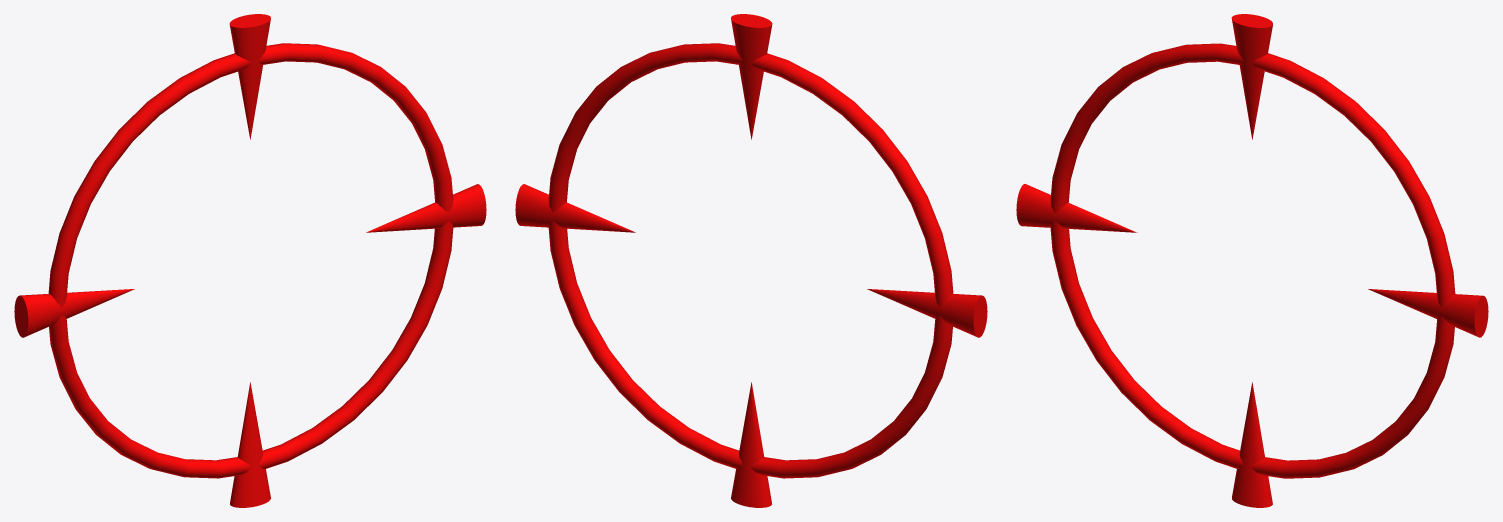
File: ch_peaRed.DAE
The picture shows the model from 3 angles, left to right: view 1: azimuth 30°, elevation 25°; view 2: azimuth 150°, elevation 25°; view 3: azimuth 330°, elevation 25°; orthographic projection.
Visible parts, largest first — view 1: Torus007, Kegel002, Kegel003, Kegel004, Kegel001; view 2: Torus007, Kegel002, Kegel003, Kegel004, Kegel001; view 3: Torus007, Kegel003, Kegel004, Kegel002, Kegel001.
Part boxes in pixels (x1=…): Torus007: x1=48, y1=43, x2=453, y2=478; Kegel002: x1=14, y1=289, x2=134, y2=337; Kegel003: x1=229, y1=14, x2=270, y2=139; Kegel004: x1=366, y1=184, x2=486, y2=232; Kegel001: x1=230, y1=382, x2=270, y2=507; Torus007: x1=548, y1=43, x2=953, y2=478; Kegel002: x1=867, y1=289, x2=987, y2=337; Kegel003: x1=731, y1=14, x2=772, y2=139; Kegel004: x1=515, y1=184, x2=635, y2=232; Kegel001: x1=731, y1=382, x2=771, y2=507; Torus007: x1=1050, y1=43, x2=1455, y2=478; Kegel003: x1=1231, y1=14, x2=1272, y2=139; Kegel004: x1=1368, y1=289, x2=1488, y2=337; Kegel002: x1=1016, y1=184, x2=1137, y2=232; Kegel001: x1=1232, y1=382, x2=1272, y2=507.
Bounding box in the file's own units: 0.3064 × 0.0161 × 0.3068.
1 material, 1 textured.
